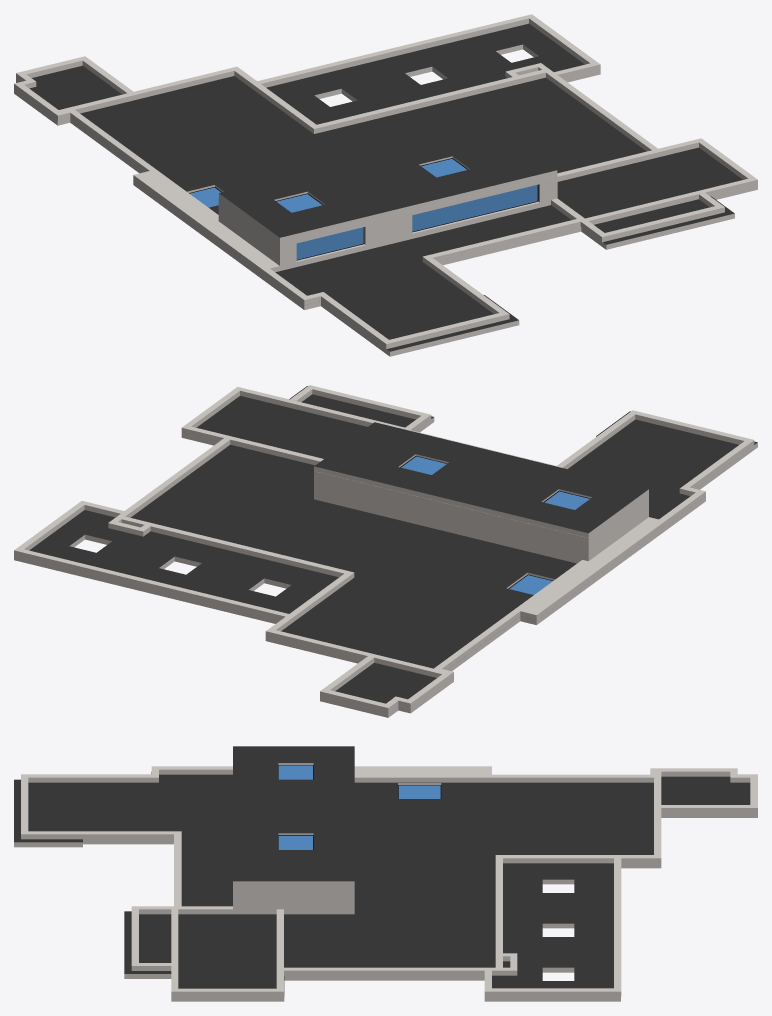
Rendered from Roof.fbx.
3 views of the same model, one above another, from view 1: azimuth 30°, elevation 25°; view 2: azimuth 150°, elevation 25°; view 3: azimuth 270°, elevation 25° (orthographic).
Parts seen in each view (by area): view 1: Box060, Box056, Box241, Box240, Box243, Box239, Box242; view 2: Box060, Box056, Box241, Box240, Box239; view 3: Box060, Box056, Box241, Box240, Box239, Box246, Box244, Box245.
Part boxes in pixels (x1,y1,x2,y2): Box060: (14, 23, 757, 356); Box056: (14, 63, 757, 348); Box241: (219, 125, 557, 242); Box240: (257, 14, 600, 87); Box243: (412, 185, 537, 231); Box239: (16, 56, 133, 94); Box242: (296, 227, 363, 259); Box060: (14, 386, 757, 717); Box056: (108, 385, 754, 708); Box241: (314, 422, 648, 537); Box240: (14, 501, 288, 620); Box239: (320, 656, 398, 712); Box060: (14, 772, 757, 1001); Box056: (21, 766, 737, 996); Box241: (233, 746, 354, 885); Box240: (484, 858, 621, 996); Box239: (661, 774, 757, 812); Box246: (398, 785, 440, 798); Box244: (278, 765, 312, 779); Box245: (278, 835, 312, 849).
Size of the model in its own units: 795 by 62.78 by 1111.
